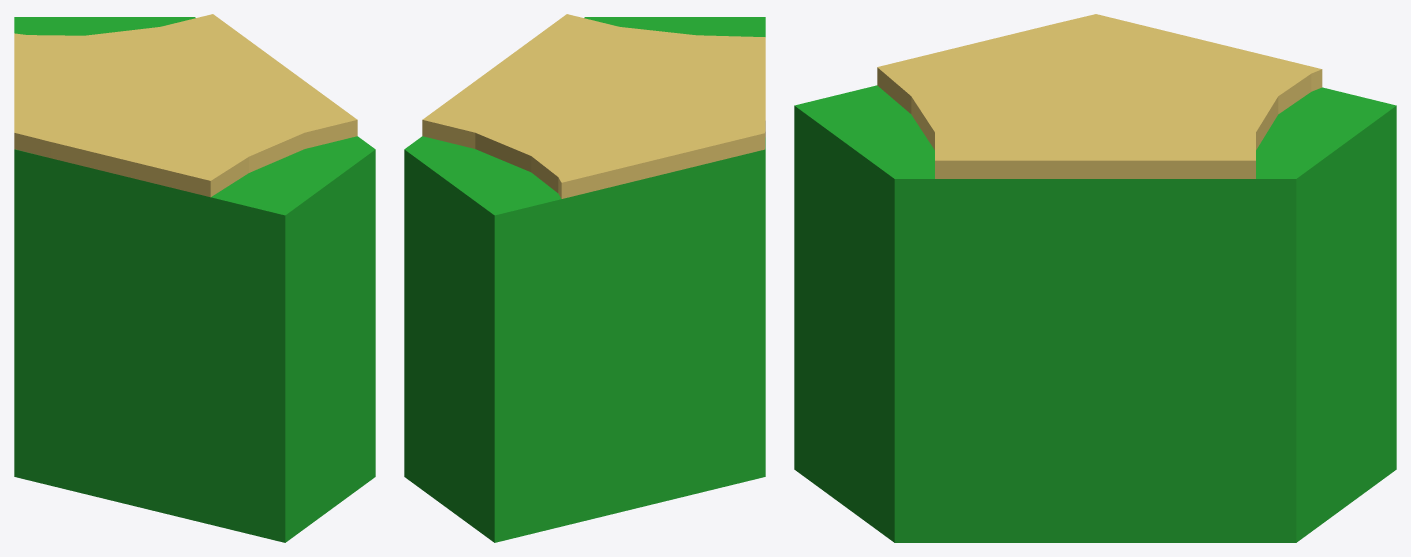
The model's file is module-corner_land_path_y_003.glb.
3 views of the same model, side by side, from view 1: azimuth 30°, elevation 25°; view 2: azimuth 150°, elevation 25°; view 3: azimuth 270°, elevation 25° (orthographic). The views are drawn at different scales.
Parts seen in each view (by area): view 1: module-corner_land_path_y_003; view 2: module-corner_land_path_y_003; view 3: module-corner_land_path_y_003.
Boxes of the visible parts, box(x1,y1,x2,y2) form: module-corner_land_path_y_003: box(14, 14, 375, 542); module-corner_land_path_y_003: box(404, 14, 765, 542); module-corner_land_path_y_003: box(794, 14, 1396, 542).
Bounding box in the file's own units: 0.433 × 0.525 × 0.75.
